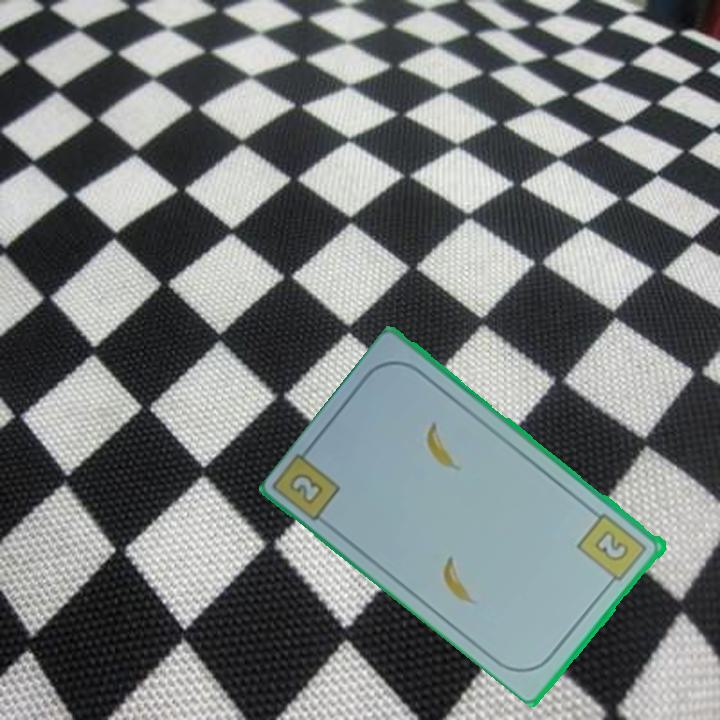2b: (574, 509, 651, 590), (286, 469, 327, 508)
